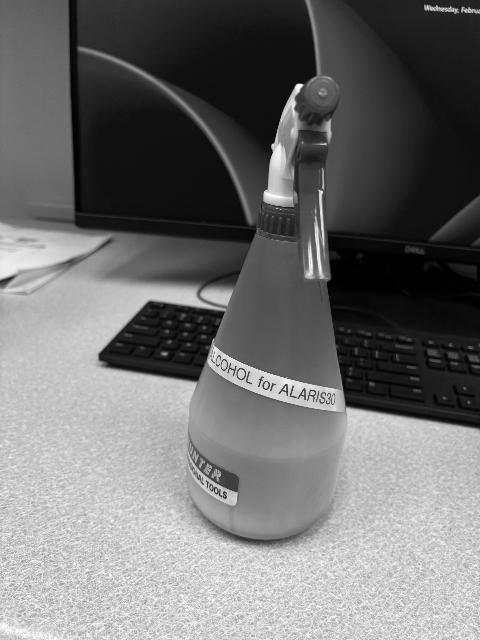AlcoholSpray: (185, 76, 348, 545)
